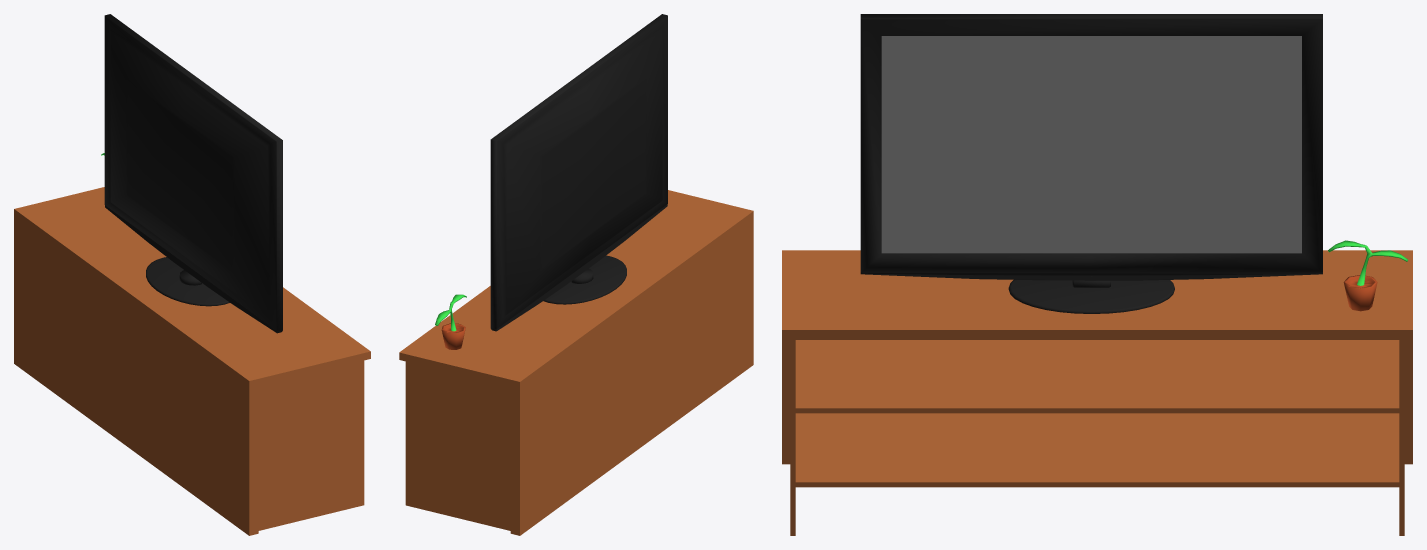
The model's file is tv unit.fbx.
3 renders of one model, left to right at view 1: azimuth 30°, elevation 25°; view 2: azimuth 150°, elevation 25°; view 3: azimuth 270°, elevation 25°, orthographic. The views are drawn at different scales.
Parts seen in each view (by area): view 1: tv unit; view 2: tv unit; view 3: tv unit.
Boxes of the visible parts, left/top/right/bottom form: tv unit: left=14, top=14, right=370, bottom=535; tv unit: left=399, top=14, right=753, bottom=535; tv unit: left=782, top=14, right=1412, bottom=535.
Bounding box in the file's own units: 81.43 × 230 × 273.
